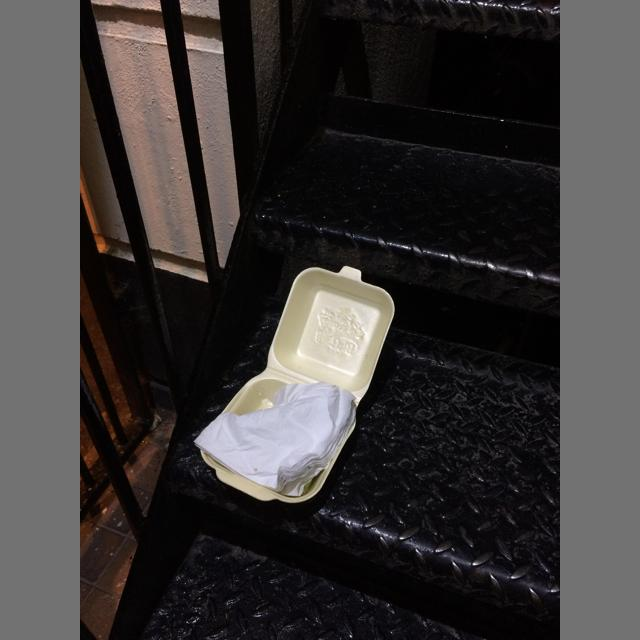litter: (201, 266, 395, 503), (194, 382, 357, 496)
